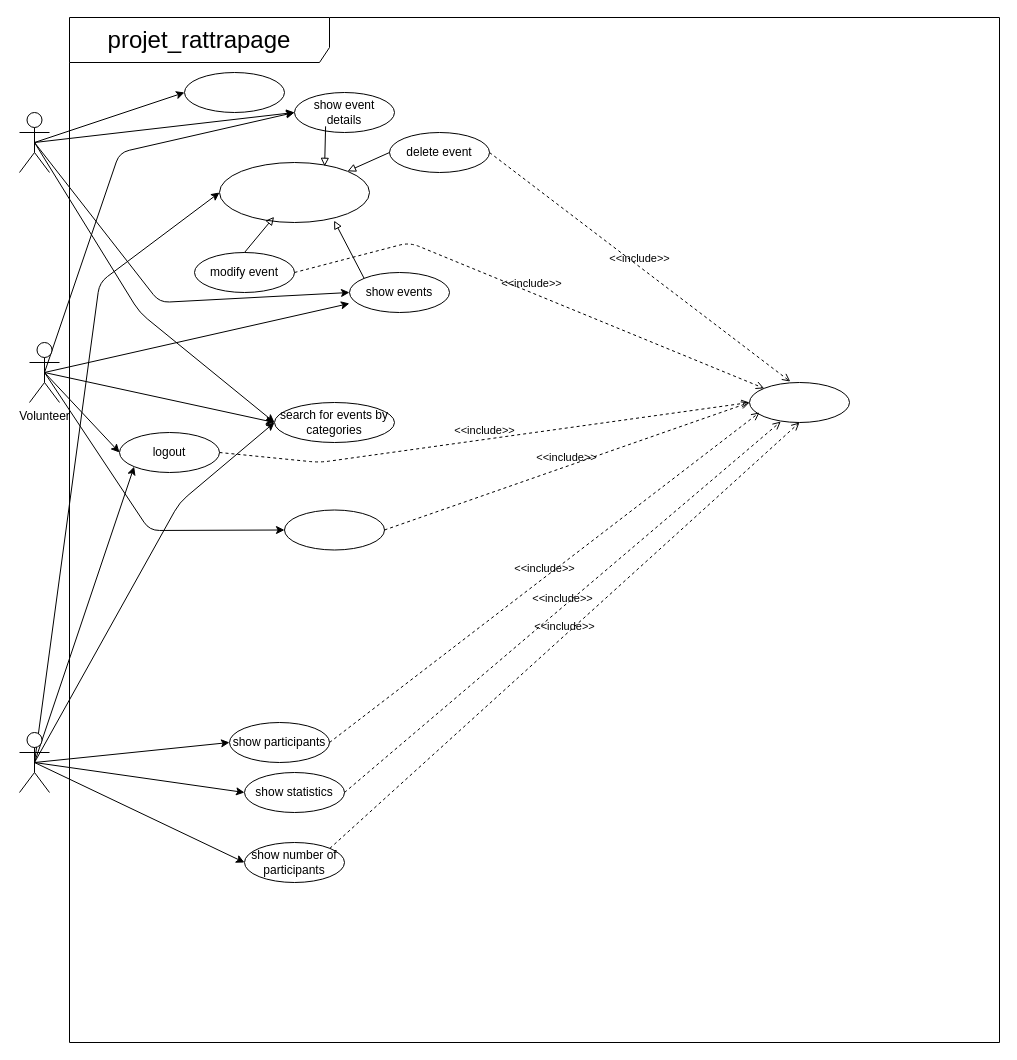
The diagram is 1017 pixels wide and 1060 high, and some of its shapes have lost their labels. Here are the shapes that lost their labels. From the top down, the centre of each, then its label:
At (234,92): "register".
At (34,142): "Guest".
At (294,192): "gestion d'evenements".
At (799,402): "login".
At (334,529): "volunteer for event".
At (34,762): "Admin".
